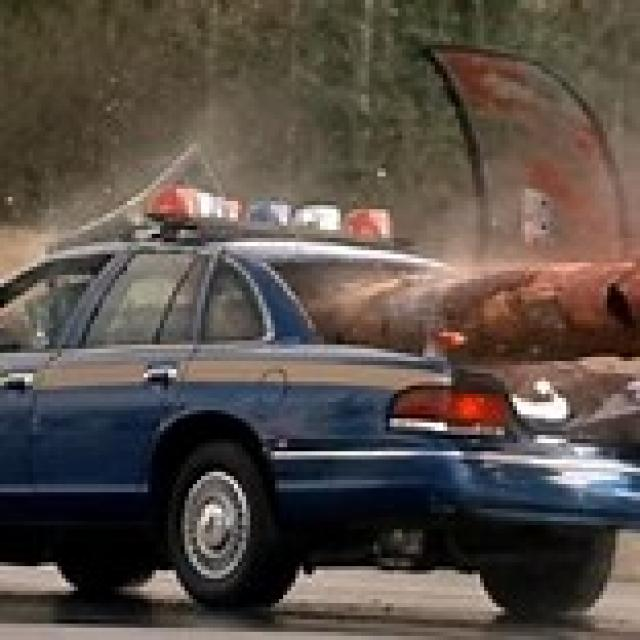Accident: (86, 164, 636, 640)
